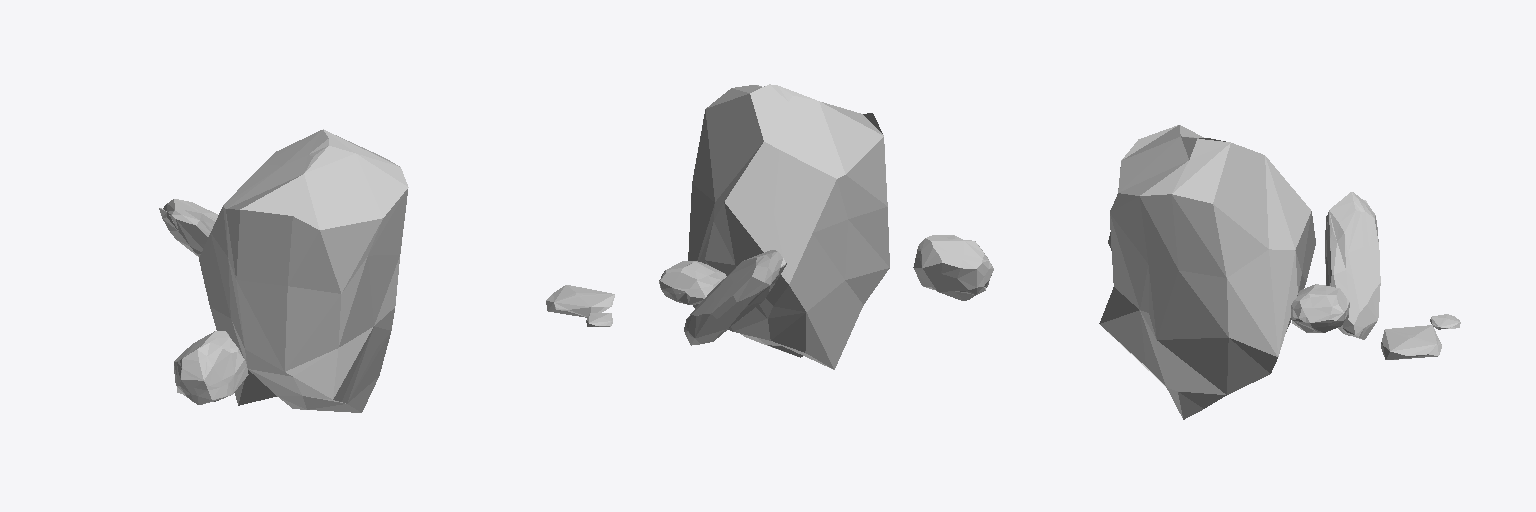
Rendered from RockGroup.obj.
The picture shows the model from 3 angles: view 1: azimuth 30°, elevation 25°; view 2: azimuth 150°, elevation 25°; view 3: azimuth 270°, elevation 25°; orthographic projection.
Visible parts, largest first — view 1: RockGroup_Cube.003; view 2: RockGroup_Cube.003; view 3: RockGroup_Cube.003.
Boxes of the visible parts, x1=… form: RockGroup_Cube.003: x1=159, y1=129, x2=408, y2=412; RockGroup_Cube.003: x1=546, y1=84, x2=993, y2=369; RockGroup_Cube.003: x1=1099, y1=125, x2=1460, y2=419.
Bounding box in the file's own units: 1.79 × 1.54 × 1.86.